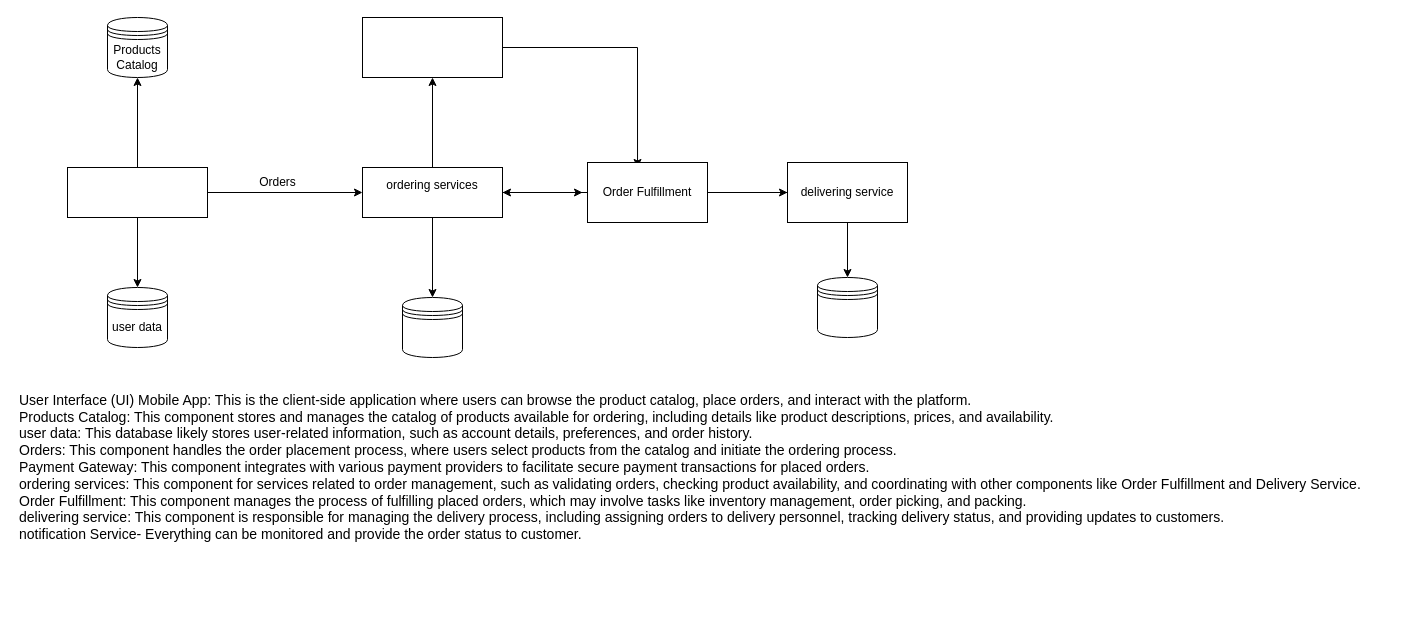
The diagram is 1404 pixels wide and 620 high, and some of its shapes have lost their labels. Each missing label, with the centre of its shape:
"Payment Gateway" belongs at point 432,47.
"User Interface (UI) Mobile App" belongs at point 137,192.
